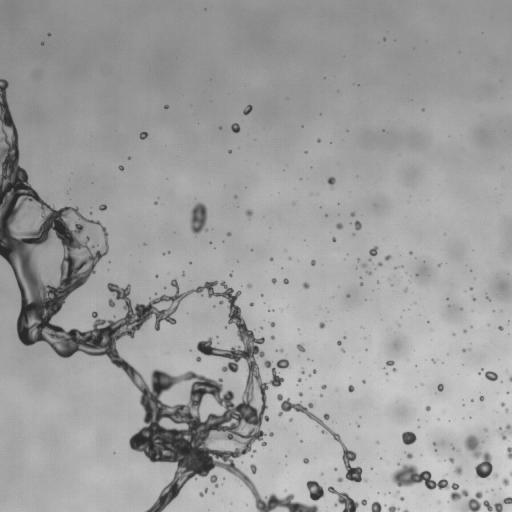droplet: (306, 480, 324, 501), (495, 424, 511, 440), (401, 431, 417, 445), (484, 370, 498, 381), (237, 115, 248, 126), (26, 176, 37, 187), (373, 267, 384, 278), (289, 277, 300, 288), (228, 278, 239, 289), (63, 294, 74, 305), (129, 294, 140, 305), (115, 307, 126, 318), (100, 309, 111, 320), (80, 321, 91, 332), (260, 370, 271, 381), (311, 374, 322, 385), (265, 385, 276, 396), (269, 399, 280, 410), (135, 418, 146, 429), (477, 442, 488, 453), (134, 449, 145, 460), (166, 460, 177, 471), (162, 472, 173, 483), (342, 479, 353, 490), (399, 484, 410, 495), (147, 493, 158, 504), (371, 501, 383, 511), (230, 123, 240, 133), (243, 104, 252, 115), (453, 465, 462, 476), (369, 246, 378, 256), (327, 176, 335, 187), (296, 343, 305, 352), (16, 158, 25, 167), (203, 218, 212, 227), (332, 228, 341, 237), (375, 251, 384, 260), (84, 277, 93, 286), (166, 286, 175, 295), (12, 304, 21, 313), (239, 309, 248, 318), (49, 315, 58, 324), (9, 327, 18, 336), (272, 338, 281, 347), (100, 354, 109, 363), (254, 355, 263, 364), (275, 367, 284, 376), (137, 407, 146, 416), (259, 421, 268, 430), (488, 422, 497, 431), (474, 431, 483, 440), (251, 439, 260, 448), (456, 439, 465, 448), (406, 442, 415, 451), (232, 456, 241, 465), (225, 471, 234, 480), (430, 472, 439, 481), (388, 481, 397, 490), (443, 486, 452, 495), (276, 490, 285, 499), (459, 495, 468, 504), (304, 497, 313, 506), (391, 497, 400, 506), (314, 498, 323, 507), (245, 209, 253, 219), (250, 463, 257, 474), (139, 131, 148, 139), (404, 451, 413, 459), (354, 220, 361, 230), (505, 396, 511, 407), (505, 435, 511, 446), (505, 485, 511, 496), (161, 505, 172, 511), (247, 505, 258, 511), (275, 505, 286, 511), (355, 505, 366, 511), (318, 320, 326, 328), (98, 204, 107, 211), (108, 298, 115, 307), (502, 477, 509, 486), (302, 281, 309, 289), (0, 139, 5, 150), (505, 381, 511, 390), (502, 505, 511, 511), (336, 222, 343, 229), (384, 254, 391, 261), (392, 490, 399, 497), (5, 96, 12, 103), (7, 103, 14, 110), (239, 103, 246, 110), (10, 113, 17, 120), (16, 142, 23, 149), (188, 201, 195, 208), (239, 206, 246, 213), (205, 208, 212, 215), (185, 212, 192, 219), (186, 229, 193, 236), (366, 262, 373, 269), (183, 264, 190, 271), (358, 267, 365, 274), (362, 274, 369, 281), (276, 277, 283, 284), (117, 298, 124, 305), (97, 312, 104, 319), (245, 322, 252, 329), (63, 324, 70, 331), (268, 327, 275, 334), (455, 328, 462, 335), (253, 331, 260, 338), (13, 336, 20, 343), (15, 339, 22, 346), (35, 340, 42, 347), (257, 343, 264, 350), (73, 350, 80, 357), (276, 352, 283, 359), (263, 353, 270, 360), (62, 356, 69, 363), (116, 366, 123, 373), (297, 384, 304, 391), (135, 390, 142, 397), (282, 410, 289, 417), (131, 427, 138, 434), (411, 427, 418, 434), (261, 434, 268, 441), (123, 440, 130, 447), (465, 449, 472, 456), (448, 450, 455, 457), (476, 456, 483, 463), (250, 457, 257, 464), (405, 458, 412, 465), (453, 459, 460, 466), (154, 460, 161, 467), (349, 460, 356, 467), (448, 463, 455, 470), (415, 466, 422, 473), (340, 467, 347, 474), (208, 468, 215, 475), (245, 470, 252, 477), (495, 477, 502, 484), (207, 482, 214, 489), (178, 488, 185, 495), (244, 488, 251, 495), (468, 491, 475, 498), (331, 493, 338, 500), (352, 495, 359, 502), (496, 495, 503, 502), (248, 496, 255, 503), (171, 497, 178, 504), (338, 502, 345, 509), (275, 347, 283, 353), (437, 383, 443, 391), (348, 384, 354, 392), (478, 506, 487, 511), (268, 321, 275, 327), (364, 270, 372, 275), (118, 165, 124, 171), (283, 278, 289, 284), (195, 356, 201, 362), (448, 457, 454, 463), (0, 254, 4, 263), (228, 270, 233, 277), (300, 367, 305, 374), (302, 458, 309, 463), (310, 259, 315, 265), (361, 263, 367, 268), (271, 278, 276, 284), (497, 325, 503, 330), (340, 347, 345, 353), (479, 395, 484, 401), (425, 405, 430, 411), (399, 495, 404, 501), (507, 458, 511, 465), (507, 475, 511, 482), (380, 507, 387, 511), (350, 211, 355, 216), (247, 283, 252, 288), (270, 335, 275, 340), (321, 384, 326, 389), (288, 417, 293, 422), (1, 74, 6, 79), (6, 78, 11, 83), (7, 81, 12, 86), (4, 87, 9, 92), (238, 123, 243, 128), (15, 126, 20, 131), (238, 128, 243, 133), (16, 129, 21, 134), (228, 129, 233, 134), (231, 131, 236, 136), (235, 131, 240, 136), (25, 169, 30, 174), (324, 174, 329, 179), (333, 180, 338, 185), (325, 182, 330, 187), (37, 192, 42, 197), (246, 204, 251, 209), (54, 205, 59, 210), (77, 208, 82, 213), (251, 208, 256, 213), (86, 214, 91, 219), (243, 214, 248, 219), (249, 214, 254, 219), (351, 216, 356, 221), (335, 218, 340, 223), (359, 219, 364, 224), (101, 221, 106, 226), (331, 223, 336, 228), (350, 223, 355, 228), (105, 227, 110, 232), (354, 229, 359, 234), (106, 234, 111, 239), (107, 240, 112, 245), (408, 254, 413, 259), (100, 255, 105, 260), (371, 255, 376, 260), (380, 258, 385, 263), (387, 258, 392, 263), (305, 259, 310, 264), (314, 261, 319, 266), (356, 262, 361, 267), (93, 265, 98, 270), (8, 268, 13, 273), (89, 272, 94, 277), (207, 277, 212, 282), (111, 279, 116, 284), (306, 279, 311, 284), (12, 280, 17, 285), (199, 281, 204, 286), (298, 284, 303, 289), (129, 286, 134, 291), (301, 287, 306, 292), (178, 288, 183, 293), (470, 289, 475, 294), (16, 291, 21, 296), (156, 292, 161, 297), (150, 294, 155, 299), (260, 296, 265, 301), (143, 300, 148, 305), (233, 300, 238, 305), (130, 303, 135, 308), (274, 308, 279, 313), (111, 316, 116, 321), (90, 317, 95, 322), (397, 318, 402, 323), (314, 322, 319, 327), (464, 324, 469, 329), (79, 327, 84, 332), (320, 327, 325, 332), (466, 327, 471, 332), (264, 336, 269, 341), (340, 338, 345, 343), (26, 344, 31, 349), (294, 348, 299, 353), (102, 353, 107, 358), (55, 354, 60, 359), (285, 355, 290, 360), (387, 355, 392, 360), (288, 360, 293, 365), (435, 360, 440, 365), (271, 362, 276, 367), (111, 363, 116, 368), (387, 364, 392, 369), (483, 366, 488, 371), (480, 370, 485, 375), (299, 373, 304, 378), (485, 378, 490, 383), (494, 378, 499, 383), (267, 383, 272, 388), (352, 383, 357, 388), (320, 388, 325, 393), (264, 389, 269, 394), (281, 395, 286, 400), (474, 396, 479, 401), (289, 398, 294, 403), (264, 400, 269, 405), (276, 400, 281, 405), (425, 400, 430, 405), (302, 402, 307, 407), (429, 403, 434, 408), (420, 405, 425, 410), (289, 407, 294, 412), (307, 407, 312, 412), (323, 408, 328, 413), (263, 409, 268, 414), (297, 410, 302, 415), (318, 414, 323, 419), (328, 415, 333, 420), (260, 417, 265, 422), (322, 418, 327, 423), (310, 419, 315, 424), (500, 423, 505, 428), (318, 425, 323, 430), (402, 427, 407, 432), (333, 428, 338, 433), (339, 435, 344, 440), (397, 435, 402, 440), (496, 435, 501, 440), (398, 438, 403, 443), (346, 445, 351, 450), (503, 449, 508, 454), (301, 453, 306, 458), (144, 456, 149, 461), (298, 456, 303, 461), (489, 459, 494, 464), (427, 467, 432, 472), (471, 469, 476, 474), (360, 472, 365, 477), (194, 473, 199, 478), (487, 473, 492, 478), (189, 476, 194, 481), (309, 476, 314, 481), (477, 476, 482, 481), (215, 478, 220, 483), (238, 479, 243, 484), (350, 479, 355, 484), (317, 480, 322, 485), (358, 480, 363, 485), (447, 480, 452, 485), (499, 482, 504, 487), (213, 487, 218, 492), (322, 487, 327, 492), (448, 487, 453, 492), (455, 488, 460, 493), (348, 493, 353, 498), (318, 496, 323, 501), (477, 497, 482, 502), (489, 501, 494, 506), (332, 236, 336, 242), (377, 262, 383, 266), (181, 270, 185, 276), (0, 119, 3, 126), (0, 131, 3, 138), (226, 232, 231, 236), (408, 251, 413, 255), (403, 287, 407, 292), (472, 296, 476, 301), (219, 300, 223, 305), (249, 302, 254, 306), (396, 323, 401, 327), (462, 329, 467, 333), (337, 340, 341, 345), (297, 377, 301, 382), (298, 392, 303, 396), (500, 402, 505, 406), (504, 408, 508, 413), (483, 427, 487, 432), (269, 431, 273, 436), (47, 32, 51, 36), (317, 138, 321, 142), (227, 149, 231, 153), (233, 195, 237, 199), (153, 201, 157, 205), (269, 257, 273, 261), (437, 263, 441, 267), (469, 286, 473, 290), (224, 325, 228, 329), (362, 379, 366, 383), (319, 393, 323, 397), (470, 398, 474, 402), (375, 440, 379, 444), (436, 500, 440, 504), (164, 105, 169, 108), (508, 370, 511, 375), (508, 391, 511, 396), (508, 407, 511, 412), (508, 420, 511, 425), (508, 442, 511, 447), (508, 492, 511, 497), (491, 508, 496, 511), (383, 37, 386, 41), (218, 126, 222, 129), (304, 150, 308, 153), (292, 201, 295, 205), (89, 211, 92, 215), (324, 213, 327, 217), (142, 242, 146, 245), (167, 250, 170, 254), (288, 256, 291, 260), (357, 258, 360, 262), (188, 261, 192, 264), (155, 274, 158, 278), (360, 282, 363, 286), (260, 293, 263, 297), (346, 294, 350, 297), (459, 307, 463, 310), (469, 325, 473, 328), (313, 369, 316, 373), (308, 373, 311, 377), (477, 372, 481, 375), (299, 439, 303, 442), (334, 467, 337, 471), (370, 467, 373, 471), (221, 477, 225, 480), (284, 488, 287, 492), (211, 491, 214, 495), (0, 168, 2, 173), (41, 42, 44, 45), (421, 108, 424, 111), (128, 156, 131, 159), (209, 241, 212, 244), (250, 248, 253, 251), (162, 252, 165, 255), (368, 258, 371, 261), (415, 273, 418, 276), (359, 276, 362, 279), (376, 281, 379, 284), (163, 286, 166, 289), (154, 292, 157, 295), (446, 297, 449, 300), (279, 308, 282, 311), (487, 323, 490, 326), (260, 326, 263, 329), (215, 335, 218, 338), (343, 336, 346, 339), (189, 349, 192, 352), (414, 364, 417, 367), (382, 366, 385, 369), (385, 372, 388, 375), (420, 382, 423, 385), (506, 391, 509, 394), (462, 403, 465, 406), (417, 425, 420, 428), (320, 472, 323, 475), (49, 30, 52, 33), (44, 33, 47, 36), (47, 35, 50, 38), (385, 37, 388, 40), (380, 39, 383, 42), (37, 41, 40, 44), (43, 41, 46, 44), (40, 45, 43, 48), (356, 80, 359, 83), (359, 83, 362, 86), (164, 101, 167, 104), (246, 101, 249, 104), (160, 104, 163, 107), (251, 106, 254, 109), (164, 108, 167, 111), (249, 110, 252, 113), (241, 113, 244, 116), (231, 120, 234, 123), (217, 123, 220, 126), (303, 124, 306, 127), (300, 127, 303, 130), (142, 128, 145, 131), (216, 128, 219, 131), (384, 128, 387, 131), (136, 134, 139, 137), (319, 136, 322, 139), (144, 137, 147, 140), (314, 137, 317, 140), (318, 141, 321, 144), (328, 143, 331, 146), (228, 146, 231, 149), (303, 147, 306, 150), (231, 149, 234, 152), (226, 152, 229, 155), (302, 152, 305, 155), (124, 156, 127, 159), (130, 156, 133, 159), (127, 159, 130, 162), (123, 166, 126, 169), (116, 168, 119, 171), (235, 197, 238, 200), (155, 198, 158, 201), (337, 199, 340, 202), (46, 201, 49, 204), (102, 201, 105, 204), (66, 203, 69, 206), (105, 203, 108, 206), (49, 204, 52, 207), (154, 204, 157, 207), (337, 204, 340, 207), (72, 205, 75, 208), (88, 208, 91, 211), (350, 208, 353, 211), (102, 209, 105, 212), (321, 212, 324, 215), (347, 212, 350, 215), (327, 213, 330, 216), (93, 218, 96, 221), (225, 229, 228, 232), (230, 231, 233, 234), (227, 235, 230, 238), (329, 238, 332, 241), (335, 238, 338, 241), (211, 239, 214, 242), (144, 240, 147, 243), (332, 241, 335, 244), (210, 243, 213, 246), (248, 245, 251, 248), (370, 245, 373, 248), (215, 246, 218, 249), (252, 246, 255, 249), (169, 248, 172, 251), (407, 248, 410, 251), (410, 248, 413, 251), (376, 249, 379, 252), (164, 250, 167, 253), (248, 250, 251, 253), (251, 250, 254, 253), (169, 251, 172, 254), (159, 252, 162, 255), (406, 252, 409, 255), (368, 254, 371, 257), (161, 255, 164, 258), (267, 255, 270, 258), (311, 256, 314, 259), (188, 258, 191, 261), (272, 258, 275, 261), (354, 258, 357, 261), (437, 260, 440, 263), (185, 261, 188, 264), (191, 261, 194, 264), (400, 261, 403, 264), (280, 263, 283, 266), (394, 263, 397, 266), (439, 264, 442, 267), (311, 265, 314, 268), (377, 265, 380, 268), (277, 266, 280, 269), (436, 266, 439, 269), (363, 267, 366, 270), (396, 267, 399, 270), (367, 268, 370, 271), (471, 268, 474, 271), (415, 270, 418, 273), (179, 271, 182, 274), (184, 271, 187, 274), (469, 271, 472, 274), (231, 272, 234, 275), (157, 273, 160, 276), (412, 273, 415, 276), (152, 275, 155, 278), (271, 275, 274, 278), (415, 275, 418, 278), (171, 276, 174, 279), (287, 277, 290, 280), (359, 278, 362, 281), (168, 279, 171, 282), (373, 279, 376, 282), (378, 279, 381, 282), (248, 280, 251, 283), (389, 280, 392, 283), (269, 281, 272, 284), (274, 281, 277, 284), (362, 281, 365, 284), (356, 282, 359, 285), (285, 283, 288, 286), (376, 283, 379, 286), (227, 284, 230, 287), (470, 284, 473, 287), (122, 285, 125, 288), (360, 285, 363, 288), (193, 286, 196, 289), (401, 286, 404, 289), (248, 287, 251, 290), (472, 287, 475, 290), (406, 288, 409, 291), (466, 288, 469, 291), (260, 290, 263, 293), (344, 291, 347, 294), (348, 291, 351, 294), (263, 293, 266, 296), (126, 294, 129, 297), (257, 294, 260, 297), (473, 294, 476, 297), (482, 294, 485, 297), (443, 295, 446, 298), (488, 295, 491, 298), (346, 297, 349, 300), (469, 297, 472, 300), (485, 298, 488, 301), (249, 299, 252, 302), (444, 299, 447, 302), (474, 299, 477, 302), (490, 299, 493, 302), (105, 300, 108, 303), (248, 305, 251, 308), (268, 306, 271, 309), (404, 307, 407, 310), (93, 308, 96, 311), (264, 308, 267, 311), (269, 310, 272, 313), (266, 311, 269, 314), (492, 311, 495, 314), (506, 316, 509, 319), (426, 317, 429, 320), (271, 318, 274, 321), (423, 320, 426, 323), (323, 321, 326, 324), (267, 322, 270, 325), (427, 322, 430, 325), (260, 323, 263, 326), (274, 323, 277, 326), (500, 323, 503, 326), (296, 324, 299, 327), (472, 324, 475, 327), (495, 324, 498, 327), (271, 326, 274, 329), (460, 327, 463, 330), (496, 328, 499, 331), (298, 329, 301, 332), (342, 332, 345, 335), (463, 332, 466, 335), (274, 335, 277, 338), (451, 335, 454, 338), (333, 340, 336, 343), (296, 341, 299, 344), (338, 344, 341, 347), (363, 345, 366, 348), (276, 346, 279, 349), (459, 346, 462, 349), (464, 346, 467, 349), (343, 347, 346, 350), (367, 347, 370, 350), (361, 348, 364, 351), (465, 349, 468, 352), (339, 350, 342, 353), (459, 350, 462, 353), (429, 355, 432, 358), (309, 356, 312, 359), (433, 357, 436, 360), (307, 359, 310, 362), (429, 360, 432, 363), (416, 362, 419, 365), (480, 364, 483, 367), (416, 365, 419, 368), (299, 368, 302, 371), (477, 368, 480, 371), (492, 369, 495, 372), (309, 370, 312, 373), (315, 370, 318, 373), (394, 370, 397, 373), (384, 374, 387, 377), (361, 376, 364, 379), (300, 378, 303, 381), (364, 378, 367, 381), (439, 380, 442, 383), (297, 381, 300, 384), (322, 381, 325, 384), (359, 381, 362, 384), (435, 382, 438, 385), (416, 383, 419, 386), (345, 387, 348, 390), (434, 387, 437, 390), (504, 388, 507, 391), (441, 389, 444, 392), (301, 390, 304, 393), (351, 390, 354, 393), (503, 391, 506, 394), (316, 392, 319, 395), (479, 392, 482, 395), (483, 395, 486, 398), (319, 396, 322, 399), (467, 398, 470, 401), (482, 399, 485, 402), (311, 400, 314, 403), (461, 400, 464, 403), (469, 401, 472, 404), (497, 403, 500, 406), (502, 405, 505, 408), (461, 406, 464, 409), (423, 409, 426, 412), (428, 409, 431, 412), (469, 413, 472, 416), (465, 415, 468, 418), (447, 416, 450, 419), (268, 417, 271, 420), (439, 417, 442, 420), (469, 418, 472, 421), (416, 421, 419, 424), (354, 423, 357, 426), (359, 424, 362, 427), (495, 426, 498, 429), (487, 427, 490, 430), (272, 430, 275, 433), (484, 431, 487, 434), (272, 434, 275, 437), (329, 434, 332, 437), (298, 436, 301, 439), (302, 438, 305, 441), (432, 438, 435, 441), (296, 439, 299, 442), (333, 439, 336, 442), (378, 439, 381, 442), (435, 440, 438, 443), (266, 442, 269, 445), (299, 442, 302, 445), (429, 442, 432, 445), (375, 443, 378, 446), (263, 445, 266, 448), (449, 445, 452, 448), (454, 445, 457, 448), (436, 449, 439, 452), (340, 451, 343, 454), (433, 451, 436, 454), (379, 453, 382, 456), (403, 453, 406, 456), (281, 454, 284, 457), (286, 455, 289, 458), (307, 456, 310, 459), (376, 456, 379, 459), (379, 459, 382, 462), (440, 459, 443, 462), (446, 459, 449, 462), (302, 462, 305, 465), (370, 464, 373, 467), (372, 467, 375, 470), (255, 469, 258, 472), (331, 469, 334, 472), (444, 476, 447, 479), (454, 480, 457, 483), (217, 483, 220, 486), (333, 486, 336, 489), (376, 488, 379, 491), (206, 489, 209, 492), (385, 491, 388, 494), (196, 493, 199, 496), (361, 496, 364, 499), (402, 499, 405, 502), (394, 504, 397, 507), (346, 129, 348, 132), (299, 178, 302, 180), (352, 233, 355, 235), (469, 269, 472, 271), (390, 284, 393, 286), (331, 296, 334, 298), (213, 305, 215, 308), (492, 309, 495, 311), (400, 315, 402, 318), (427, 320, 429, 323), (360, 326, 363, 328), (297, 328, 300, 330), (452, 333, 455, 335), (365, 348, 367, 351), (446, 352, 448, 355), (359, 361, 361, 364), (481, 368, 483, 371), (500, 380, 502, 383), (335, 388, 337, 391), (437, 418, 439, 421), (285, 454, 287, 457), (491, 488, 493, 491), (485, 490, 488, 492), (447, 500, 449, 503), (509, 318, 511, 321), (509, 332, 511, 335), (398, 509, 401, 511), (204, 8, 206, 10), (301, 125, 303, 127), (382, 129, 384, 131), (222, 240, 224, 242), (346, 253, 348, 255), (414, 257, 416, 259), (108, 261, 110, 263), (237, 260, 239, 262), (423, 260, 425, 262), (281, 267, 283, 269), (355, 267, 357, 269), (414, 301, 416, 303), (448, 305, 450, 307), (309, 387, 311, 389), (359, 416, 361, 418), (462, 417, 464, 419), (469, 416, 471, 418), (417, 418, 419, 420), (113, 452, 115, 454), (420, 453, 422, 455), (380, 457, 382, 459), (241, 461, 243, 463), (285, 463, 287, 465), (221, 483, 223, 485), (388, 492, 390, 494), (230, 502, 232, 504), (384, 504, 386, 506), (357, 84, 359, 85), (310, 166, 311, 168), (157, 197, 159, 198), (337, 203, 339, 204), (320, 206, 321, 208), (350, 222, 351, 224), (214, 247, 215, 249), (403, 309, 404, 311), (408, 308, 409, 310), (471, 310, 473, 311), (441, 362, 443, 363), (296, 384, 298, 385), (415, 385, 416, 387), (495, 411, 497, 412), (444, 459, 445, 461), (499, 488, 501, 489), (377, 492, 379, 493), (325, 510, 327, 511), (263, 302, 264, 303), (448, 420, 449, 421)
ligament: (276, 393, 368, 483), (390, 462, 468, 501), (464, 434, 498, 479), (462, 490, 511, 511), (326, 486, 366, 511), (190, 202, 208, 237), (385, 360, 397, 372), (210, 473, 218, 487), (198, 487, 208, 497), (387, 504, 400, 511), (506, 446, 511, 459), (432, 441, 437, 452), (485, 293, 491, 301), (393, 265, 404, 269), (450, 443, 455, 450), (462, 348, 470, 352), (430, 358, 436, 363), (355, 422, 359, 427), (307, 358, 313, 361), (267, 309, 274, 311), (509, 375, 511, 382), (402, 509, 409, 511), (509, 470, 511, 476), (244, 503, 247, 506), (507, 321, 509, 324), (499, 310, 502, 311)
